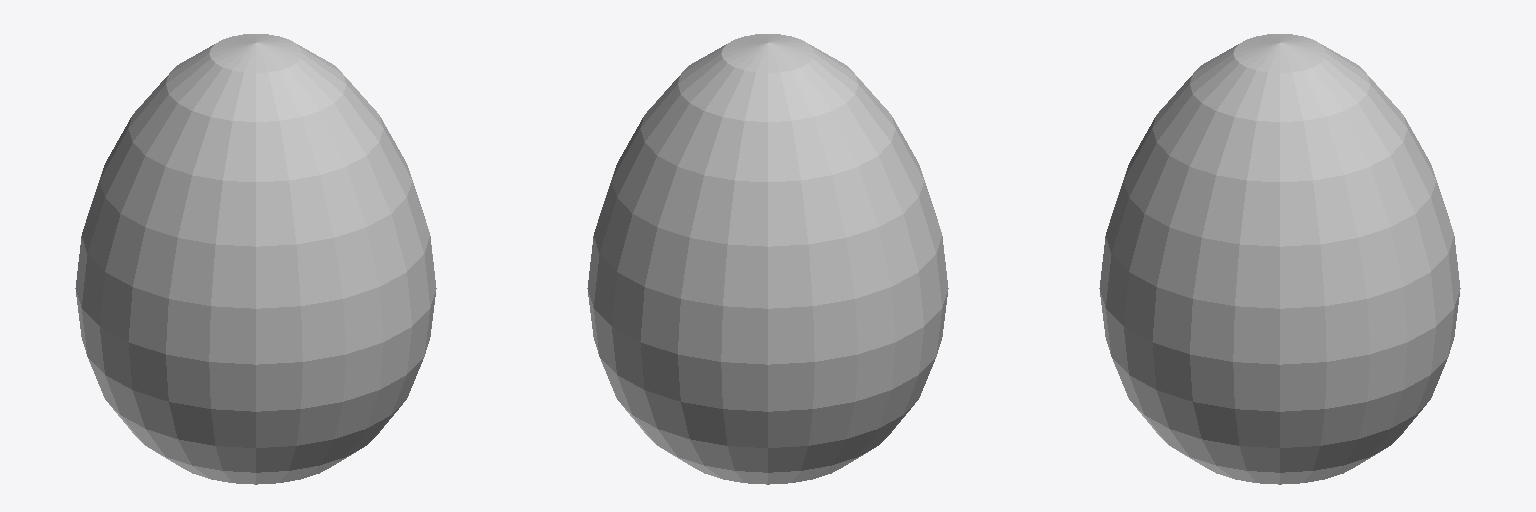
Rendered from 239_Uncracked Egg.obj.
The picture shows the model from 3 angles: view 1: azimuth 30°, elevation 25°; view 2: azimuth 150°, elevation 25°; view 3: azimuth 270°, elevation 25°; orthographic projection.
Visible parts, largest first — view 1: Uncracked_Egg; view 2: Uncracked_Egg; view 3: Uncracked_Egg.
Part boxes in pixels (left/top/right/bottom): Uncracked_Egg: left=75, top=34, right=436, bottom=484; Uncracked_Egg: left=587, top=34, right=948, bottom=484; Uncracked_Egg: left=1099, top=34, right=1460, bottom=484.
Size of the model in its own units: 92.22 by 120 by 92.22.